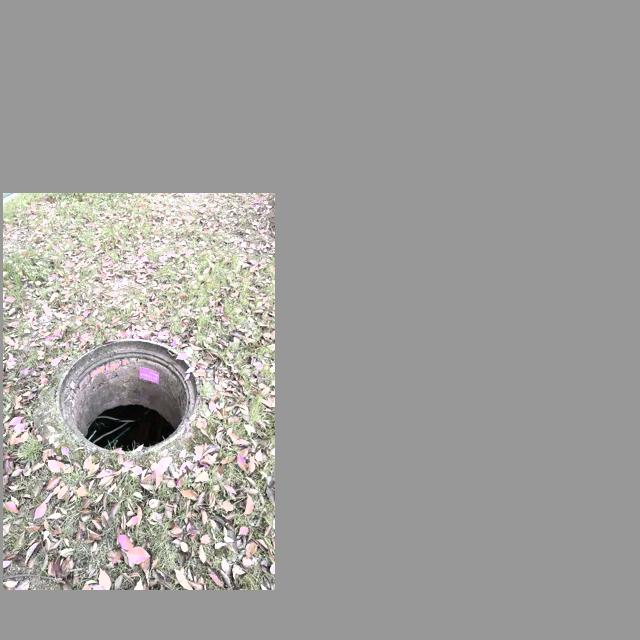lose: (56, 338, 202, 455)
